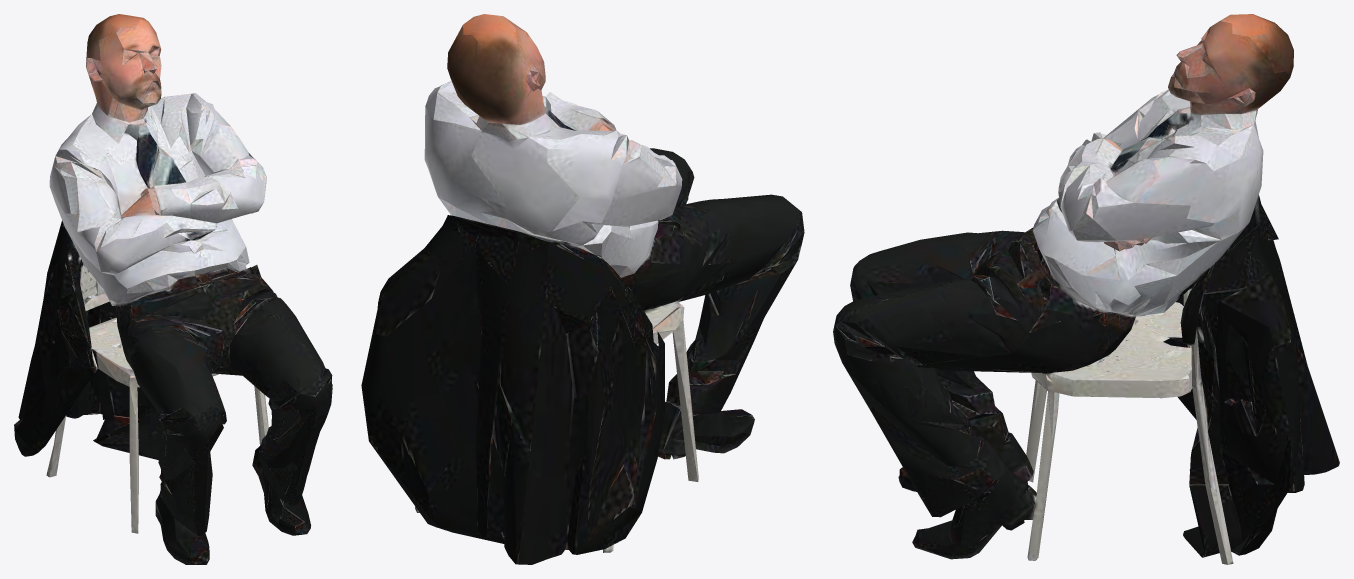
The model's file is sleeping-guard.glb.
3 renders of one model, left to right at view 1: azimuth 30°, elevation 25°; view 2: azimuth 150°, elevation 25°; view 3: azimuth 270°, elevation 25°, orthographic. The views are drawn at different scales.
Parts seen in each view (by area): view 1: output_unwrapped; view 2: output_unwrapped; view 3: output_unwrapped.
Boxes of the visible parts, <box> form: output_unwrapped: <box>14,14,332,564</box>; output_unwrapped: <box>361,14,804,564</box>; output_unwrapped: <box>833,14,1339,564</box>.
Bounding box in the file's own units: 0.9391 × 1.9 × 1.71.
1 material, 1 textured.
